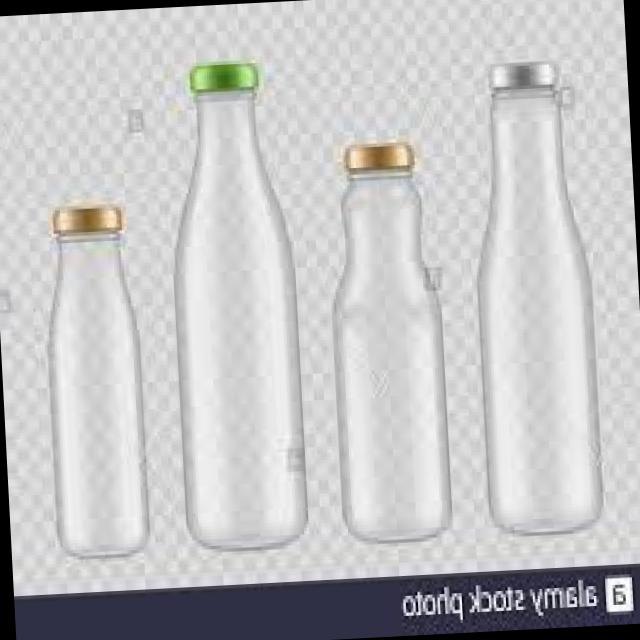bottle: (173, 63, 305, 549), (476, 62, 602, 533), (333, 142, 449, 541), (48, 207, 146, 556)
